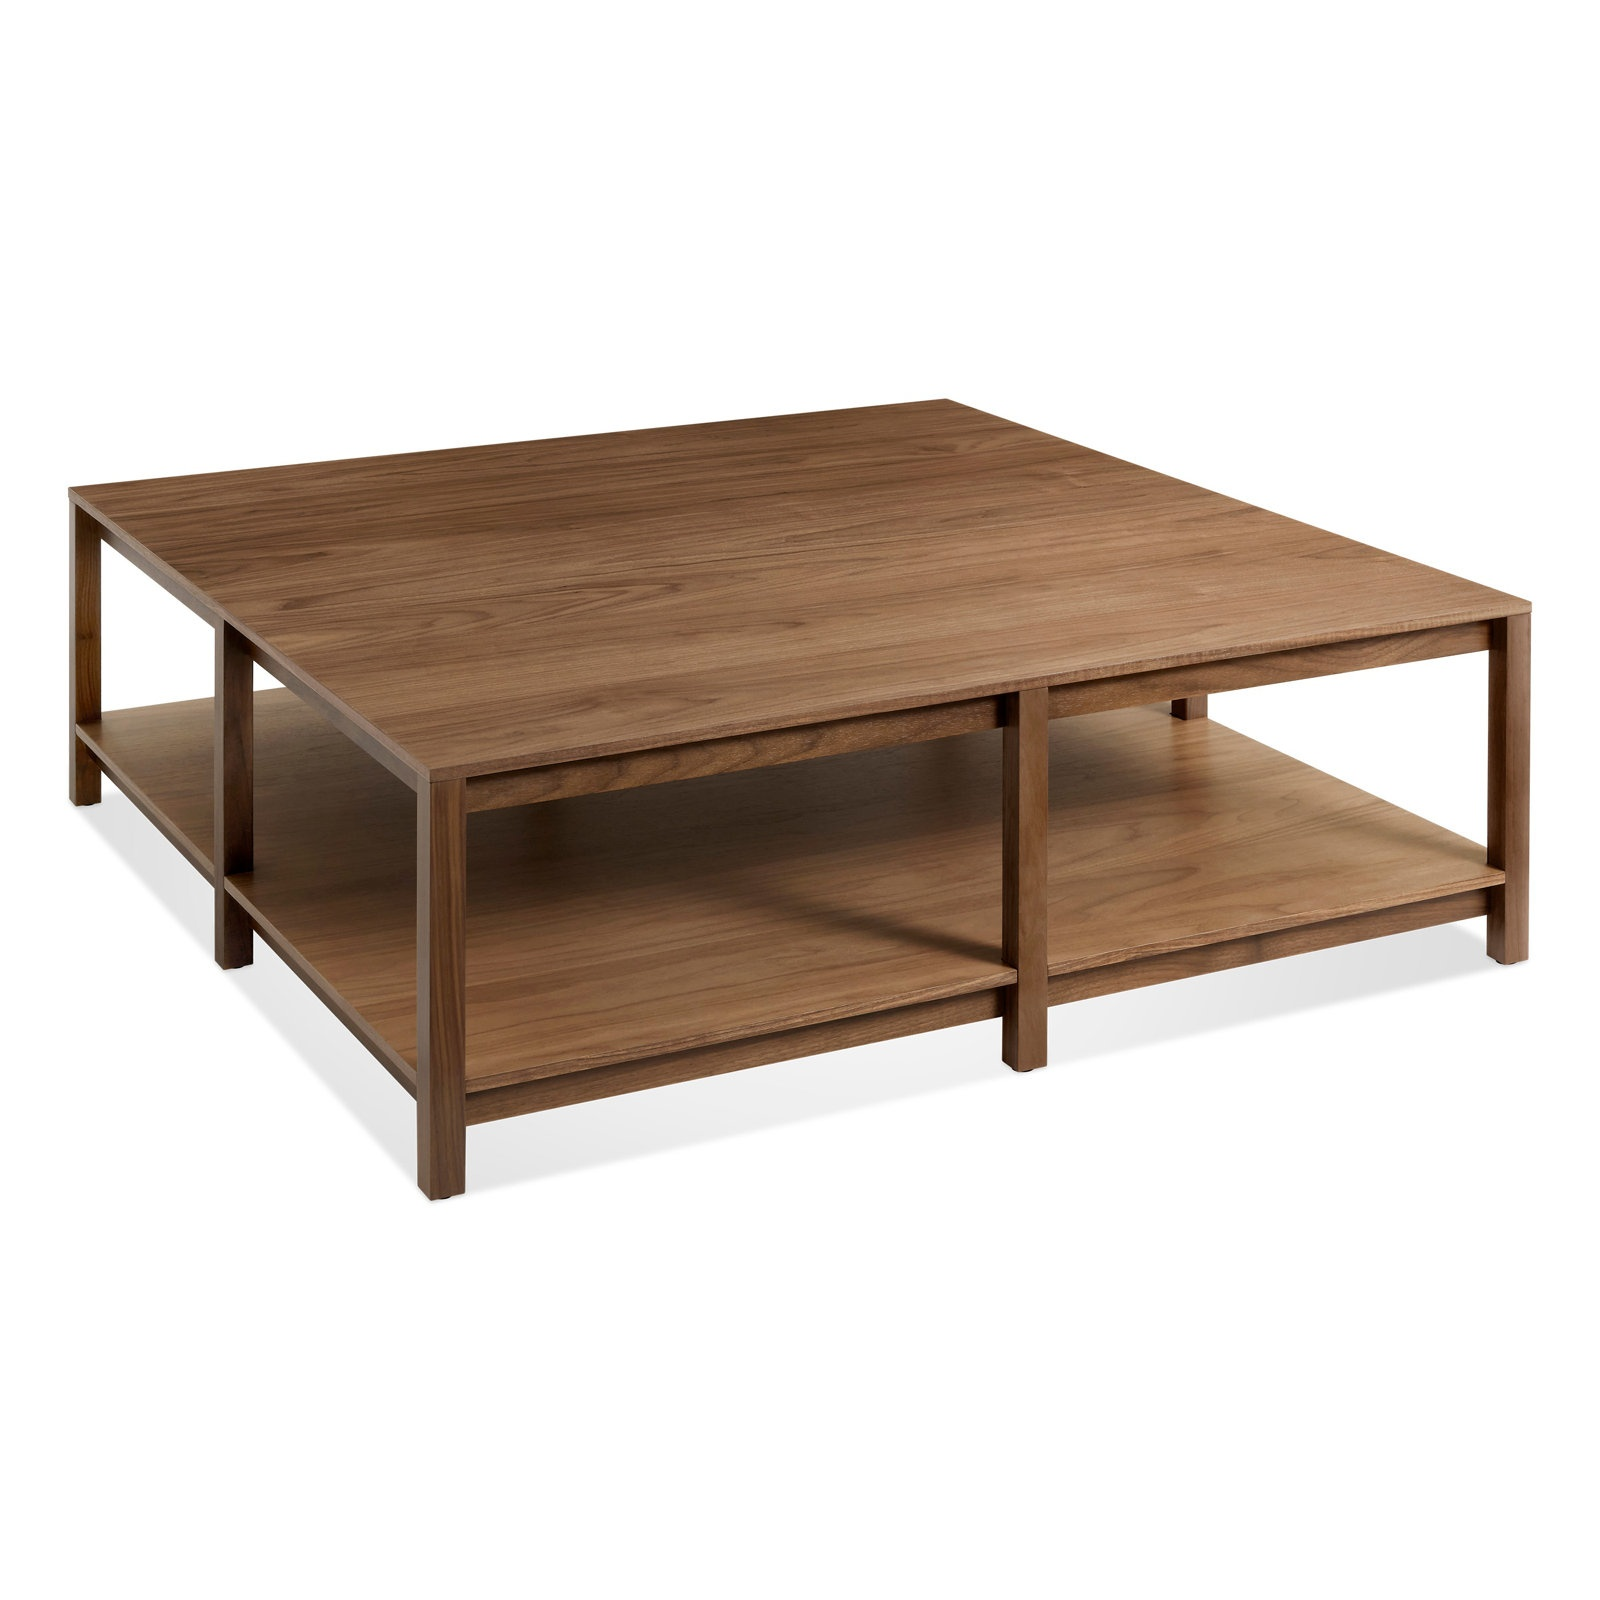obstacle: (70, 401, 1530, 1197)
